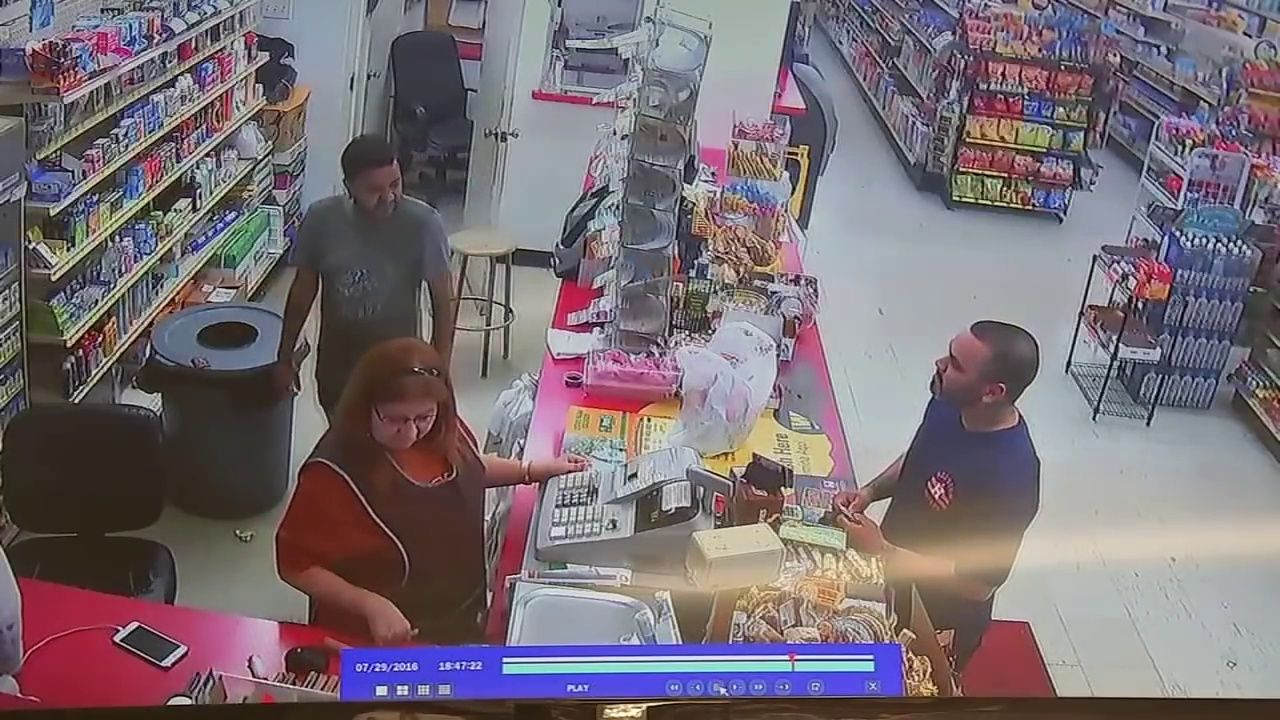face: (927, 329, 995, 398), (376, 398, 436, 449), (358, 169, 401, 218)
